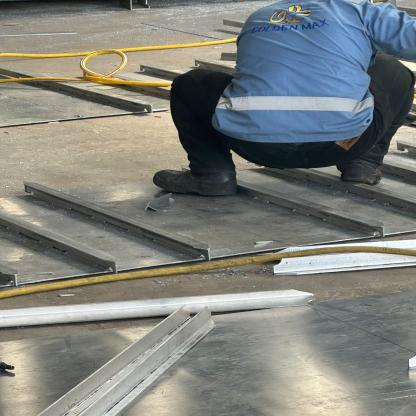bota: (148, 149, 240, 199), (326, 154, 391, 194)
